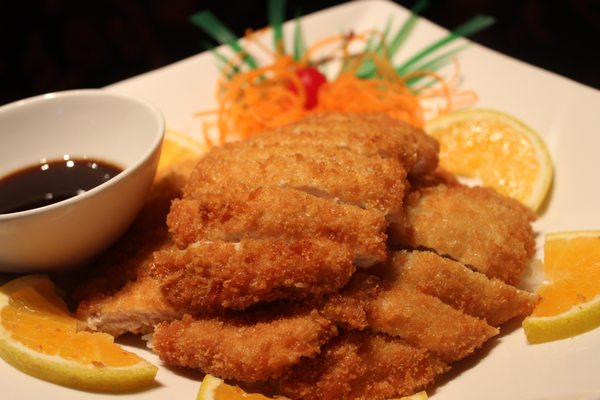sushi: (0, 90, 165, 276)
taco: (0, 277, 160, 393), (426, 107, 555, 219), (522, 229, 600, 346)
